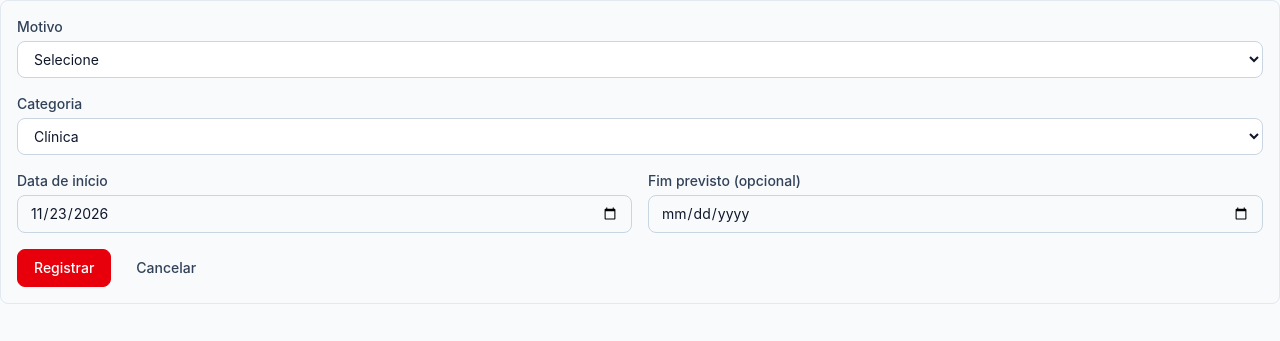
Test: TemporaryUnfitnessForm › escolher um motivo da lista preenche a categoria e o fim previsto pelo prazo
Select "Tatuagem, maquiagem definitiva ou piercing" in the dropdown labelled "Motivo": [640, 60] box [17,41,1263,78]
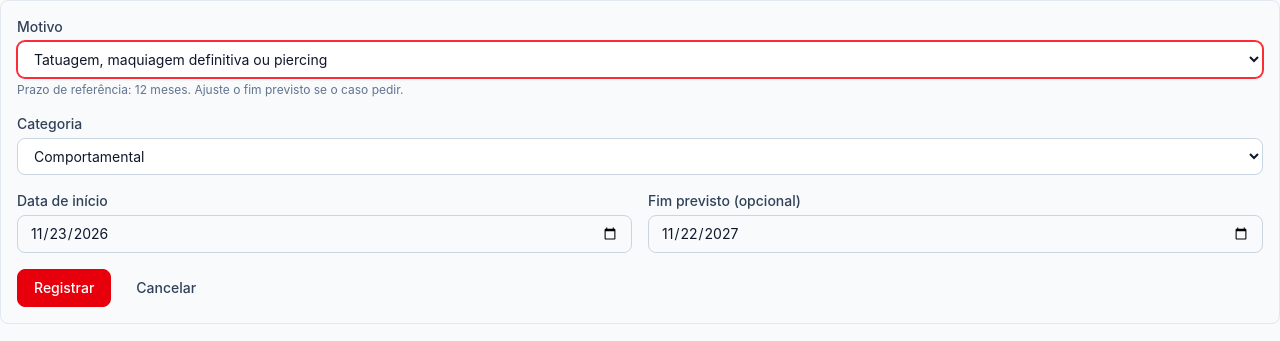
Expected: the dropdown labelled "Categoria" shows "Comportamental", [17,138,1263,175]
Expected: the text "Prazo de referência: 12 meses" is shown, [17,82,404,97]
